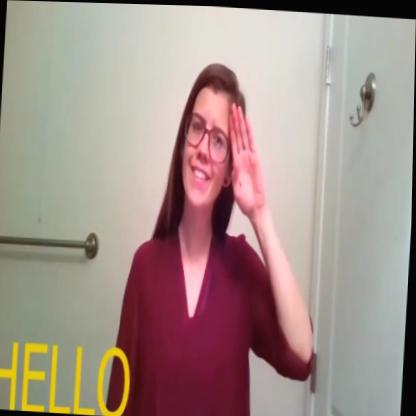Hello: (152, 31, 308, 306)
